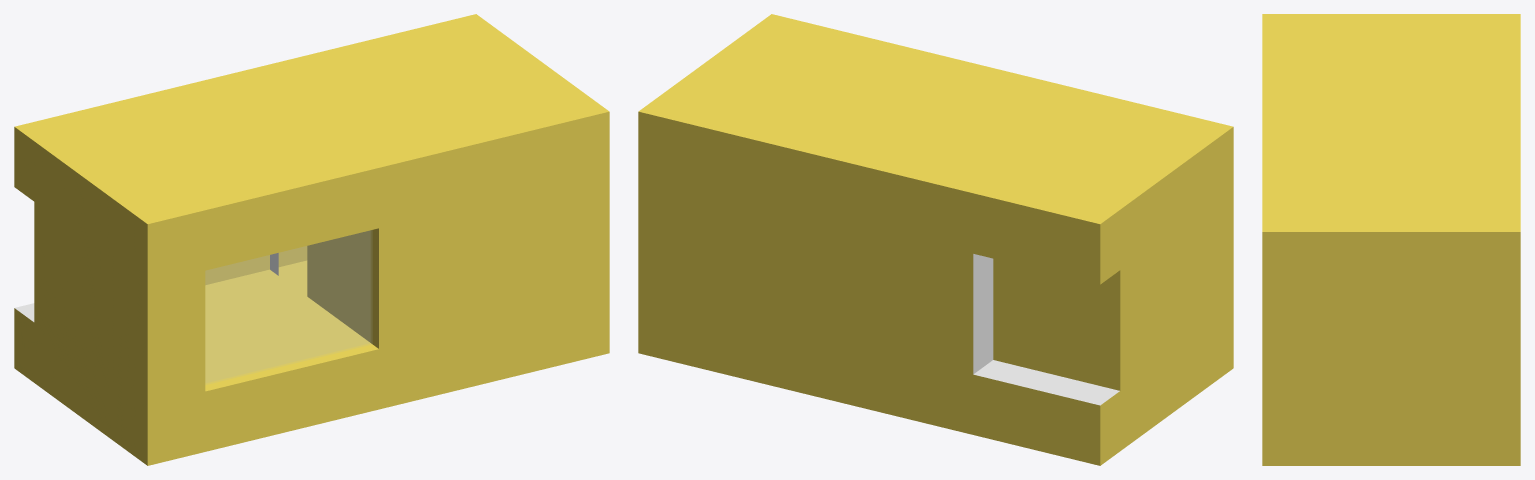
The picture shows the model from 3 angles, left to right: view 1: azimuth 30°, elevation 25°; view 2: azimuth 150°, elevation 25°; view 3: azimuth 270°, elevation 25°; orthographic projection. The views are drawn at different scales.
Visible parts, largest first — view 1: Module_L_Shape.001, Module_L_Shape_Window.001; view 2: Module_L_Shape.001; view 3: Module_L_Shape.001.
Part boxes in pixels (x1=…): Module_L_Shape.001: x1=14, y1=14, x2=609, y2=465; Module_L_Shape_Window.001: x1=205, y1=230, x2=371, y2=383; Module_L_Shape.001: x1=638, y1=14, x2=1233, y2=465; Module_L_Shape.001: x1=1262, y1=14, x2=1520, y2=465.
Size of the model in its own units: 4 by 2 by 2.
